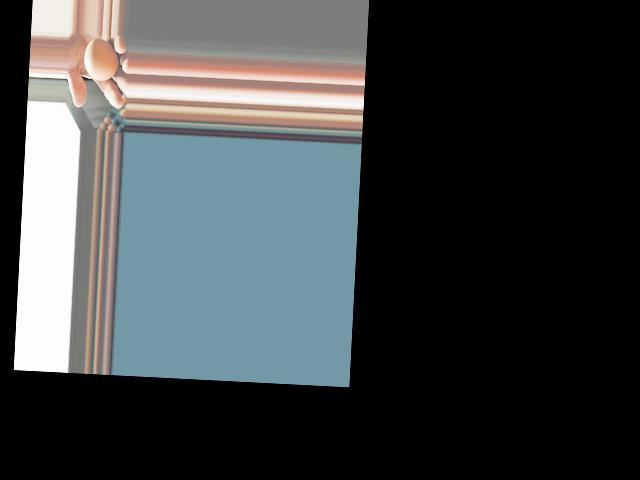egg: (83, 36, 120, 81)
